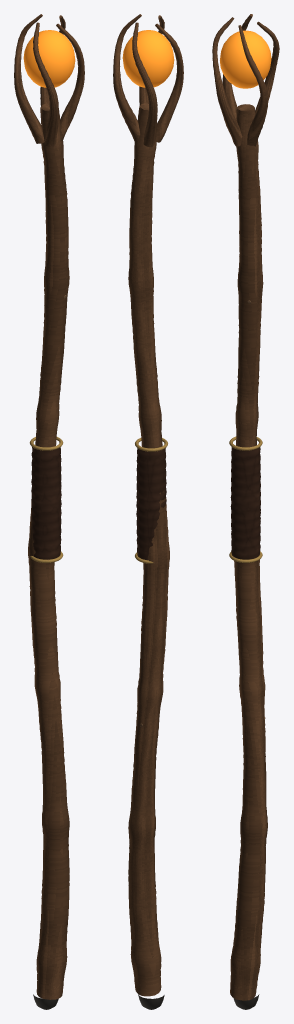
The model's file is oak-staff.lod1.glb.
3 views of the same model, side by side, from view 1: azimuth 30°, elevation 25°; view 2: azimuth 210°, elevation 25°; view 3: azimuth 330°, elevation 25° (orthographic).
Parts seen in each view (by area): view 1: wood / oiled hardwood, leather / oiled leather wrap, crystal / faceted crystal, brass / polished brass furniture, iron / hammer-scaled wrought iron; view 2: wood / oiled hardwood, leather / oiled leather wrap, crystal / faceted crystal, brass / polished brass furniture, iron / hammer-scaled wrought iron; view 3: wood / oiled hardwood, leather / oiled leather wrap, crystal / faceted crystal, brass / polished brass furniture, iron / hammer-scaled wrought iron.
Part boxes in pixels (bbox=[...]): wood / oiled hardwood: bbox=[14, 14, 84, 999]; leather / oiled leather wrap: bbox=[31, 447, 61, 559]; crystal / faceted crystal: bbox=[23, 30, 75, 87]; brass / polished brass furniture: bbox=[29, 437, 63, 562]; iron / hammer-scaled wrought iron: bbox=[33, 994, 58, 1009]; wood / oiled hardwood: bbox=[113, 14, 183, 996]; leather / oiled leather wrap: bbox=[136, 448, 166, 560]; crystal / faceted crystal: bbox=[122, 30, 174, 87]; brass / polished brass furniture: bbox=[135, 438, 167, 563]; iron / hammer-scaled wrought iron: bbox=[138, 994, 164, 1009]; wood / oiled hardwood: bbox=[212, 14, 279, 1000]; leather / oiled leather wrap: bbox=[230, 447, 260, 559]; crystal / faceted crystal: bbox=[220, 30, 271, 88]; brass / polished brass furniture: bbox=[229, 436, 262, 562]; iron / hammer-scaled wrought iron: bbox=[233, 994, 259, 1009].
Size of the model in its own units: 0.1068 by 1.77 by 0.1069.
7 materials, 4 textured.
